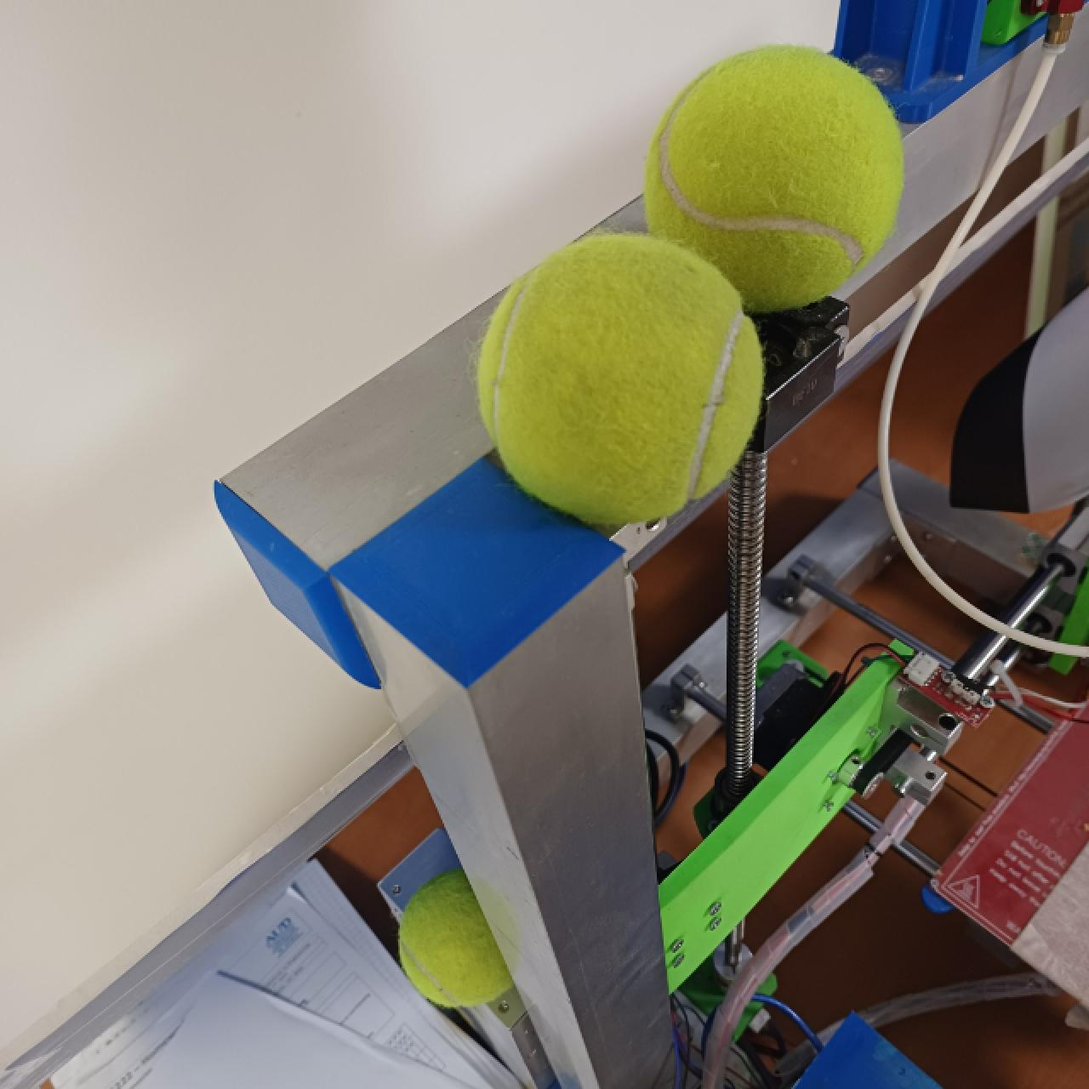tennis-ball: (474, 229, 766, 526), (648, 43, 908, 314), (395, 869, 526, 1008)
